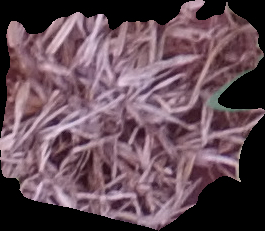soil: (1, 2, 264, 230)
